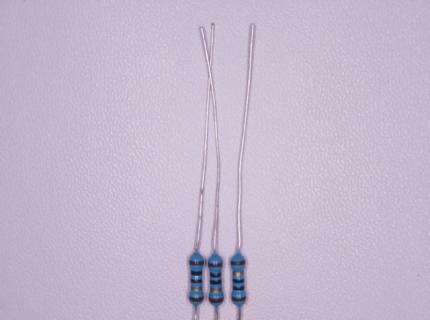Black band: (210, 272, 221, 278), (210, 279, 221, 285), (233, 285, 245, 290), (233, 278, 244, 283), (191, 271, 202, 275), (191, 279, 202, 283)
Brown band: (189, 296, 204, 302), (209, 297, 223, 303), (231, 260, 246, 265), (232, 296, 246, 301), (209, 262, 223, 267), (190, 260, 204, 265)
Gold band: (191, 286, 202, 292), (211, 288, 222, 292), (233, 271, 244, 275)
